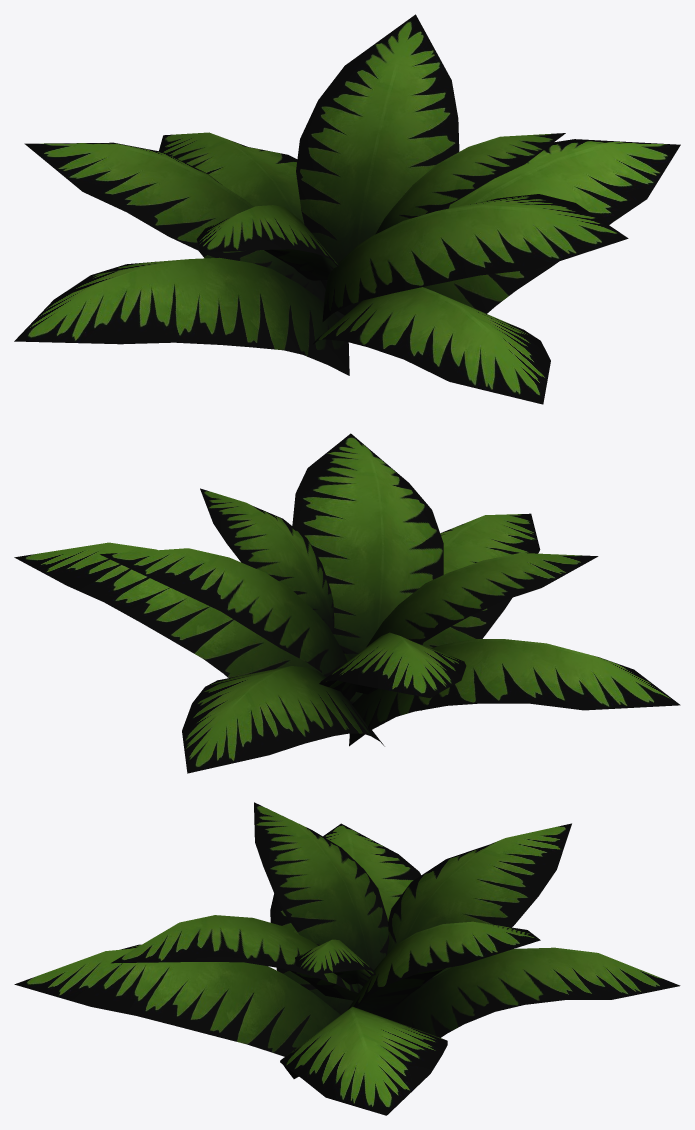
File: fern_1.gltf
3 views of the same model, one above another, from view 1: azimuth 30°, elevation 25°; view 2: azimuth 150°, elevation 25°; view 3: azimuth 270°, elevation 25° (orthographic). The views are drawn at different scales.
Parts seen in each view (by area): view 1: Fern_1; view 2: Fern_1; view 3: Fern_1.
Part boxes in pixels (box(x1,y1,x2,y2)): Fern_1: box(14, 14, 680, 404); Fern_1: box(14, 433, 680, 773); Fern_1: box(14, 802, 680, 1115).
Bounding box in the file's own units: 2.83 × 0.8402 × 2.65.
Materials: 1 (1 with a texture image).
